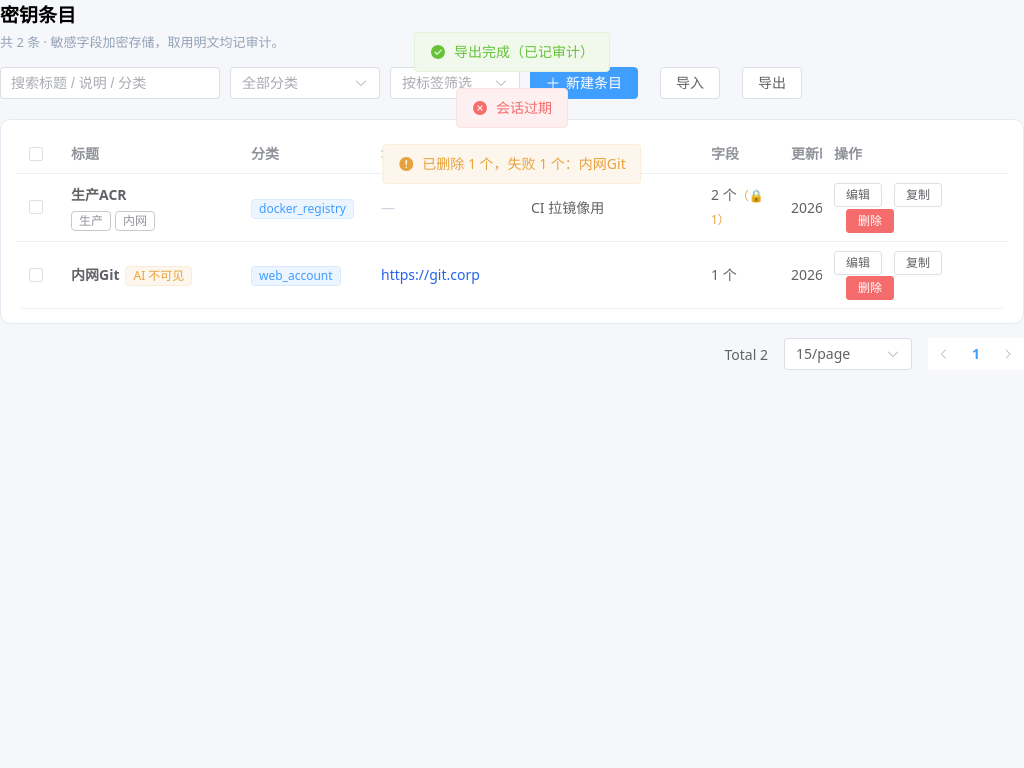
Test: EntriesList.vue › 导入弹窗：来源格式选择 + 默认提示文案（边界）
The image size is (1024, 768).
What coordinates should you click on to do the following:
click the button "导入"
I would click on:
 (690, 83)
Its box is [660,67,720,99].
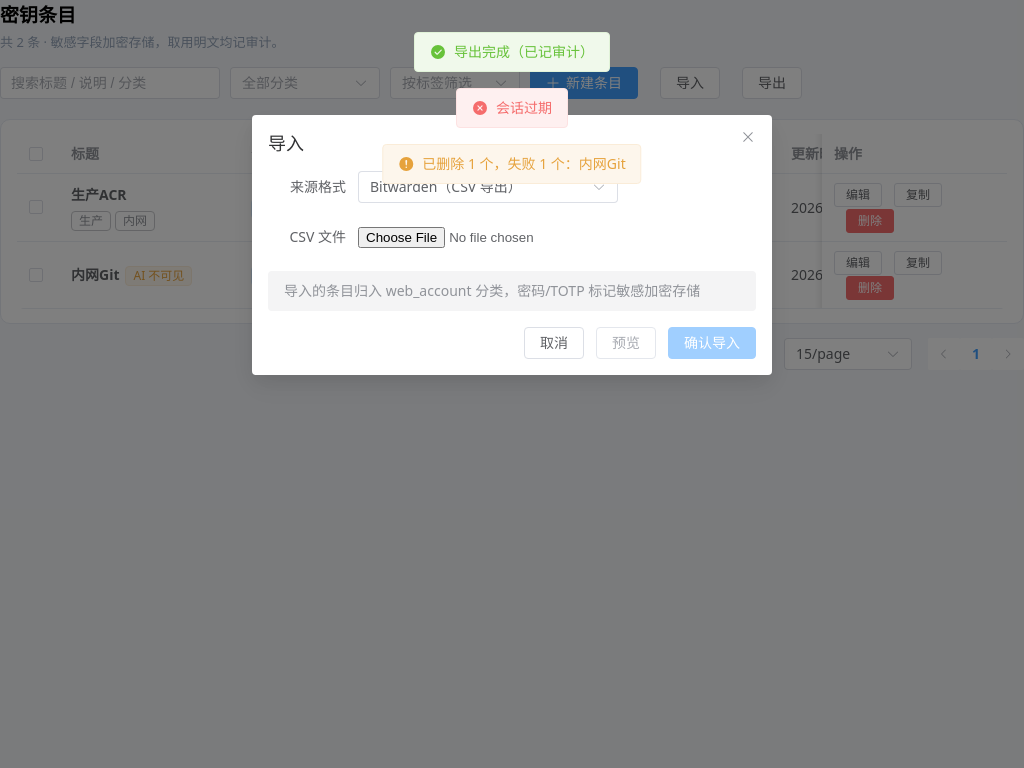
Expected: the text "来源格式" is shown, [290,177,346,196]
Expected: the text "导入的条目归入 web_account 分类" is shown, [284,281,700,300]
Expected: the file field is shown, [358,227,611,248]
